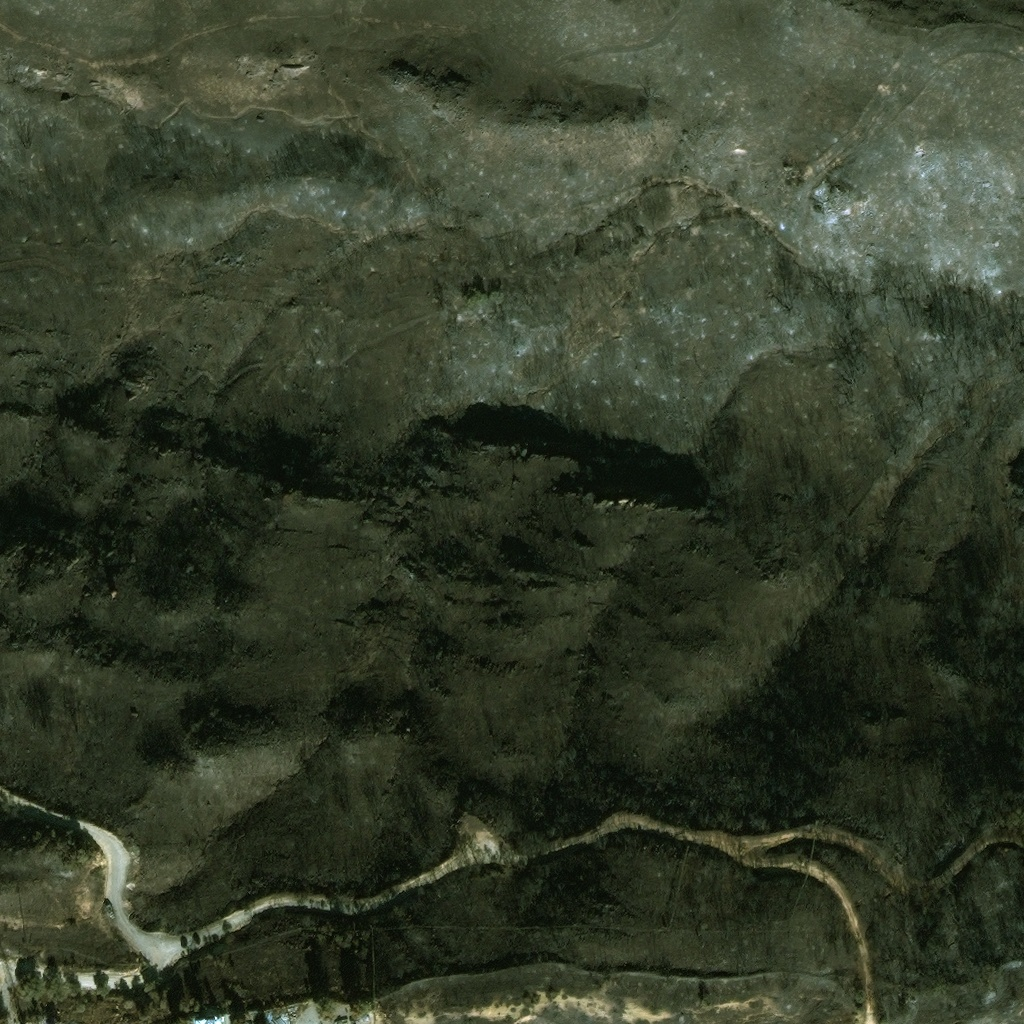4 un-classified: (195, 1016, 215, 1023), (273, 1014, 285, 1023)
